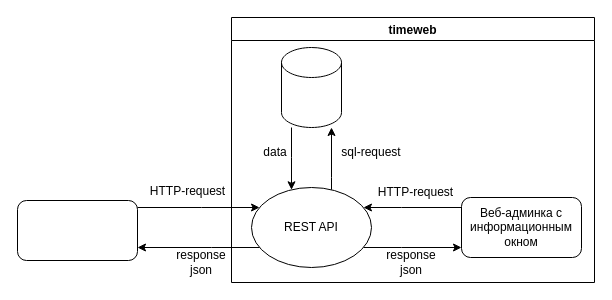
This 612x300 diagram has some shape labels left out. The centre of each missing label's shape, as x and y in pixels:
Android приложение: the point at 77,230
БД: the point at 311,87
